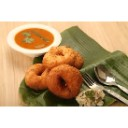vada: (48, 65, 81, 96), (45, 45, 83, 67), (25, 64, 52, 89)
